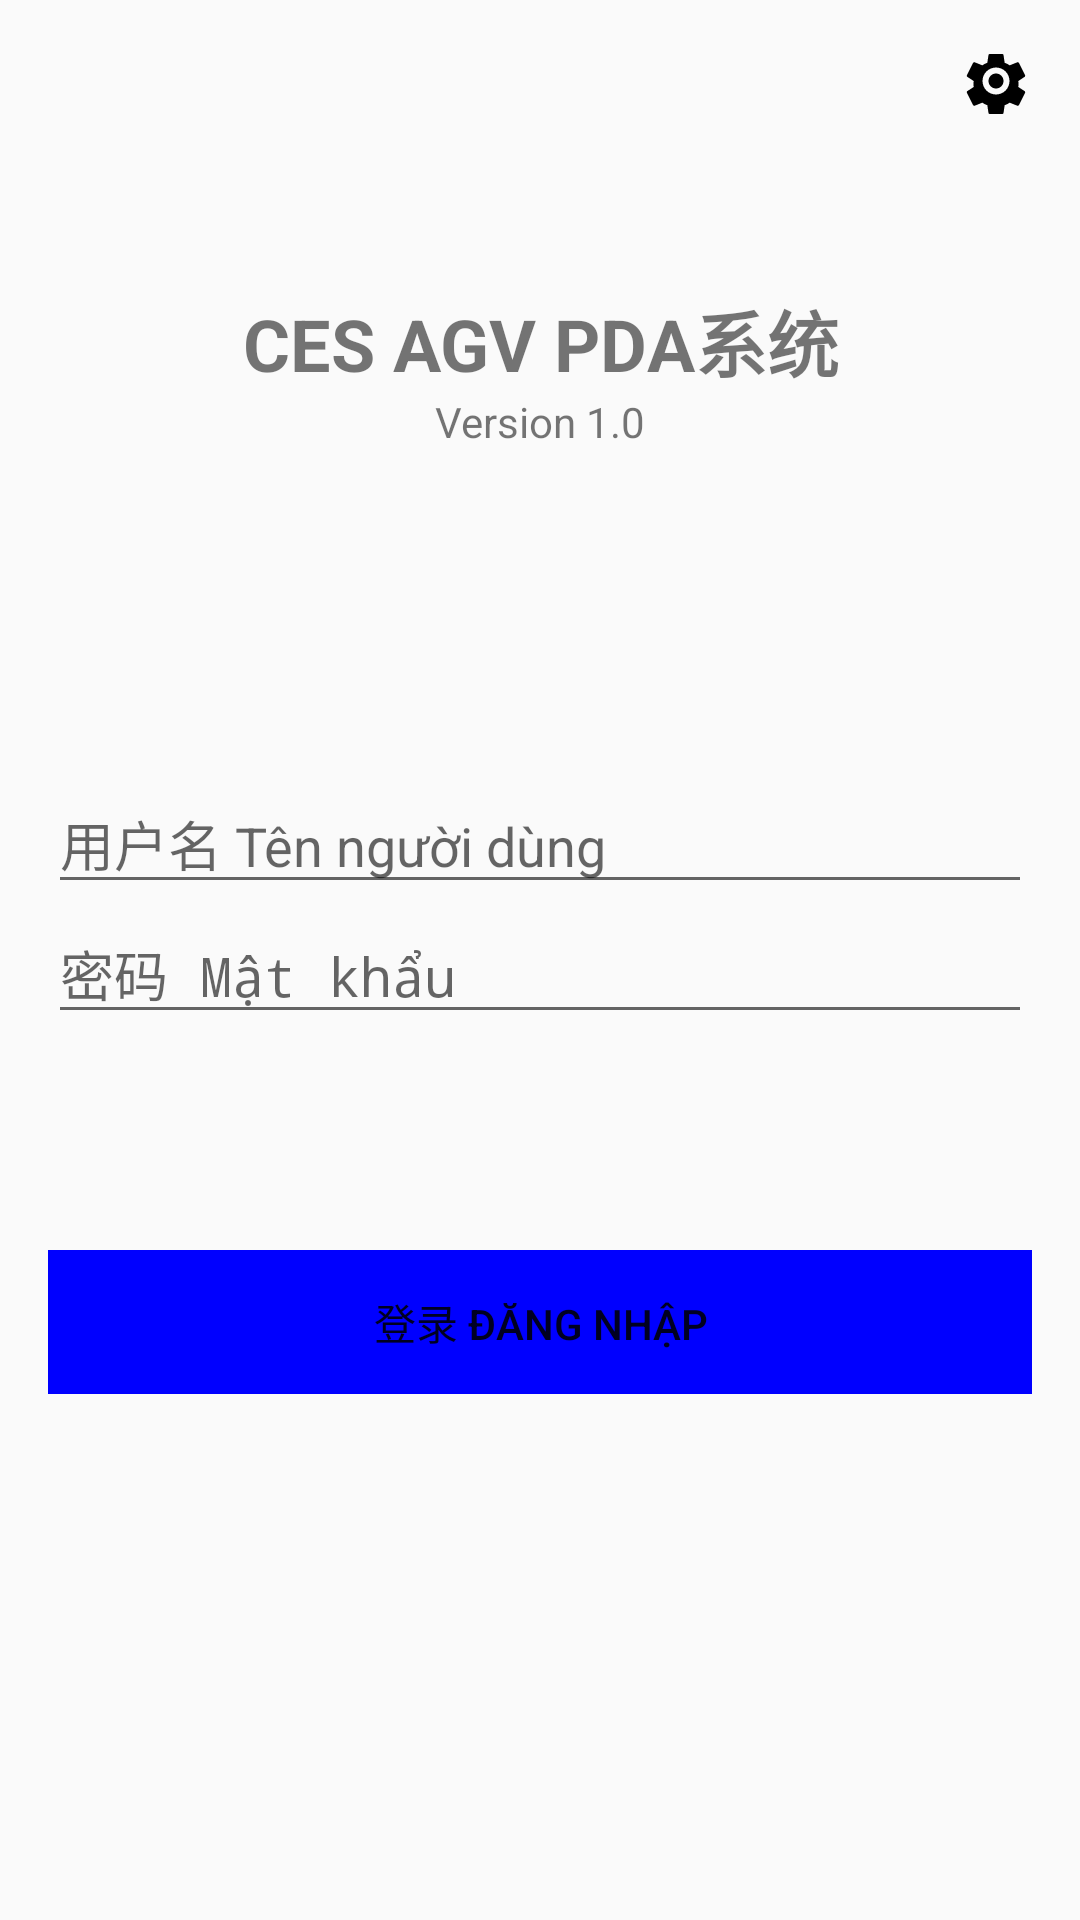

Point at icon controls on the screen. Image size 1080px×1920px, points as (x=x, y=y).
setting: (x=996, y=84)
